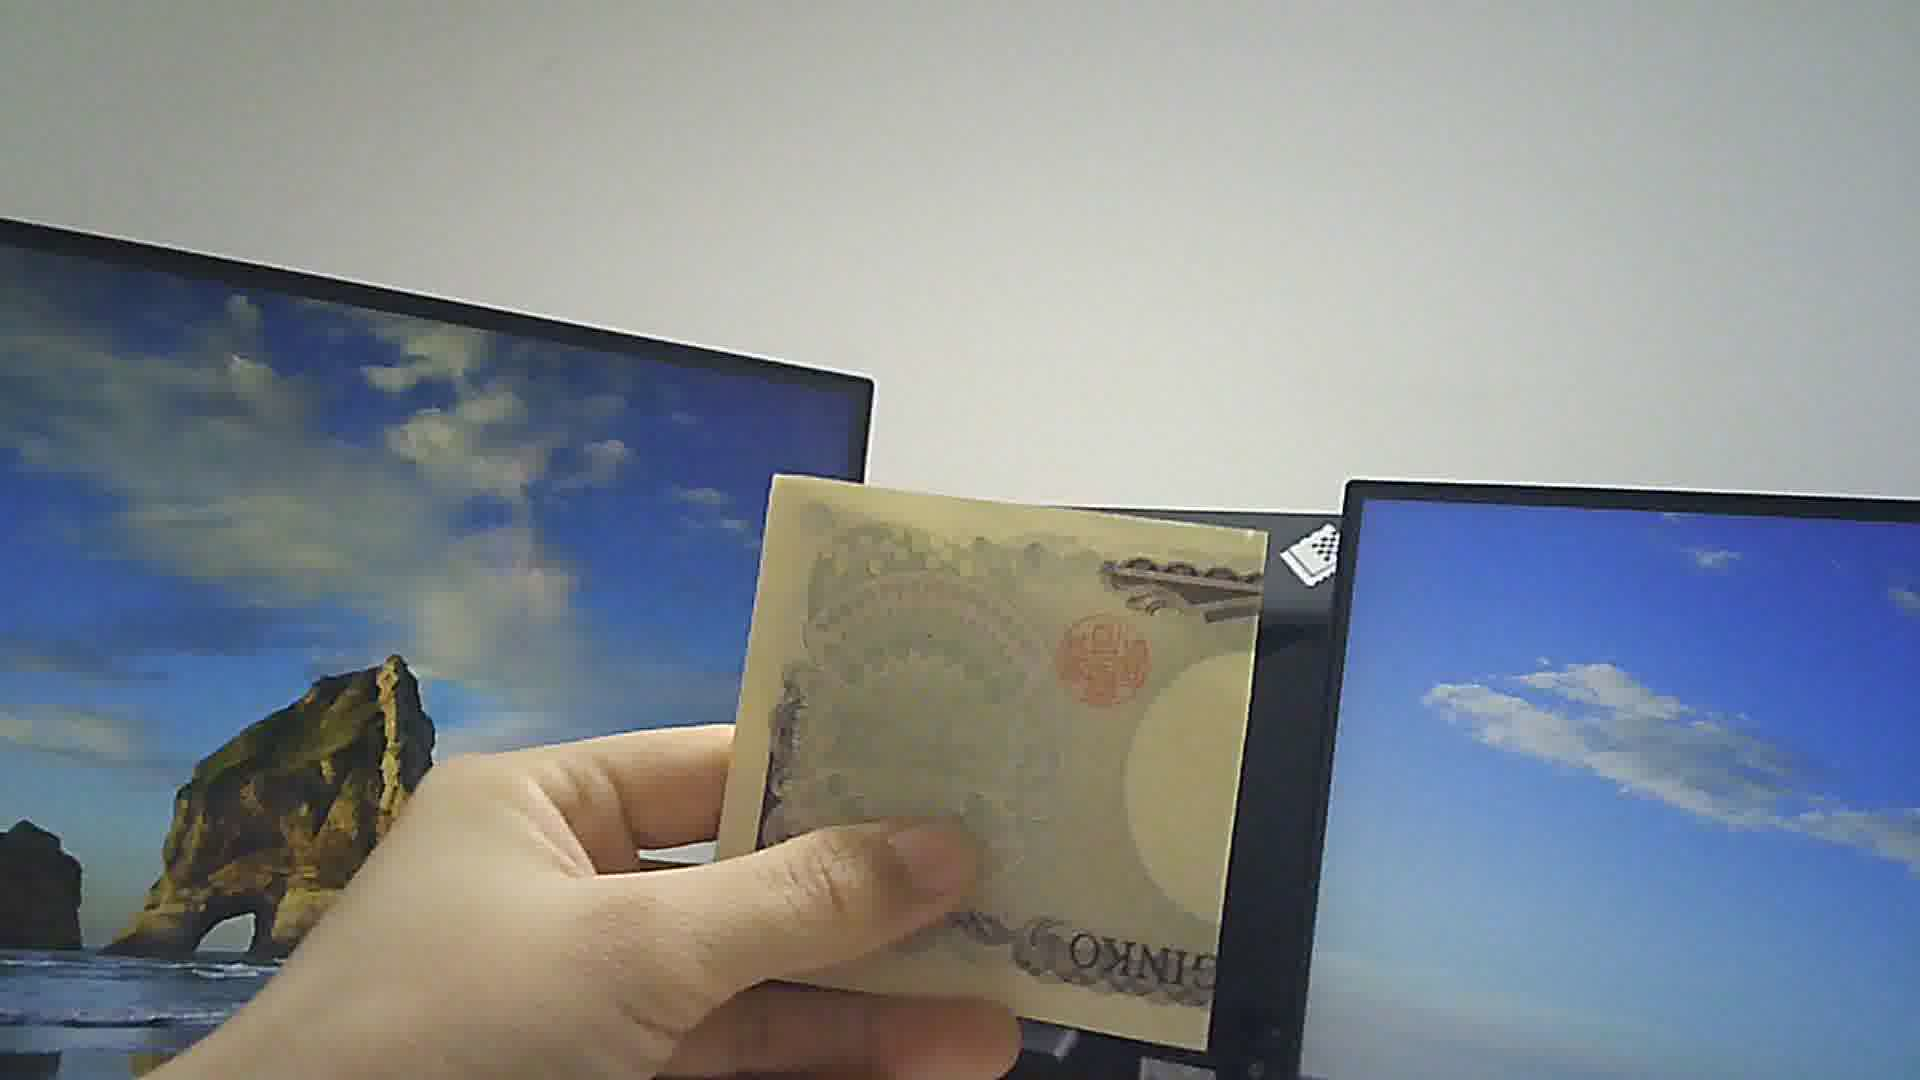5,000 Yen: (680, 460, 1286, 1060)
